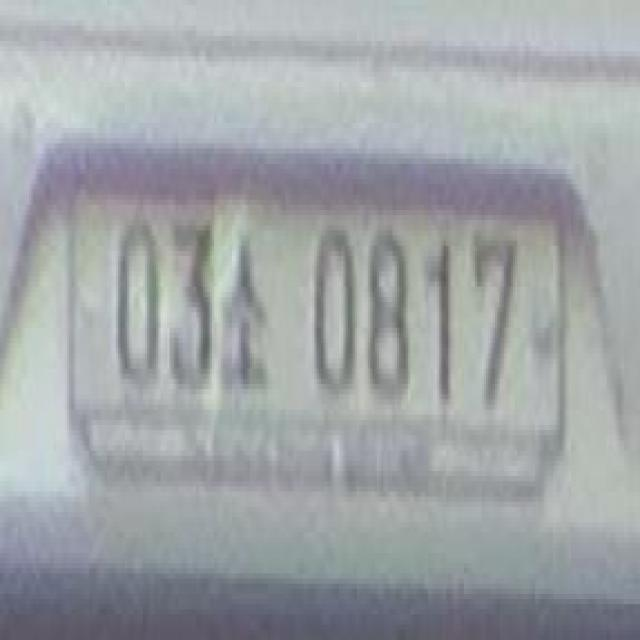illegal_plate: (44, 152, 572, 515)
